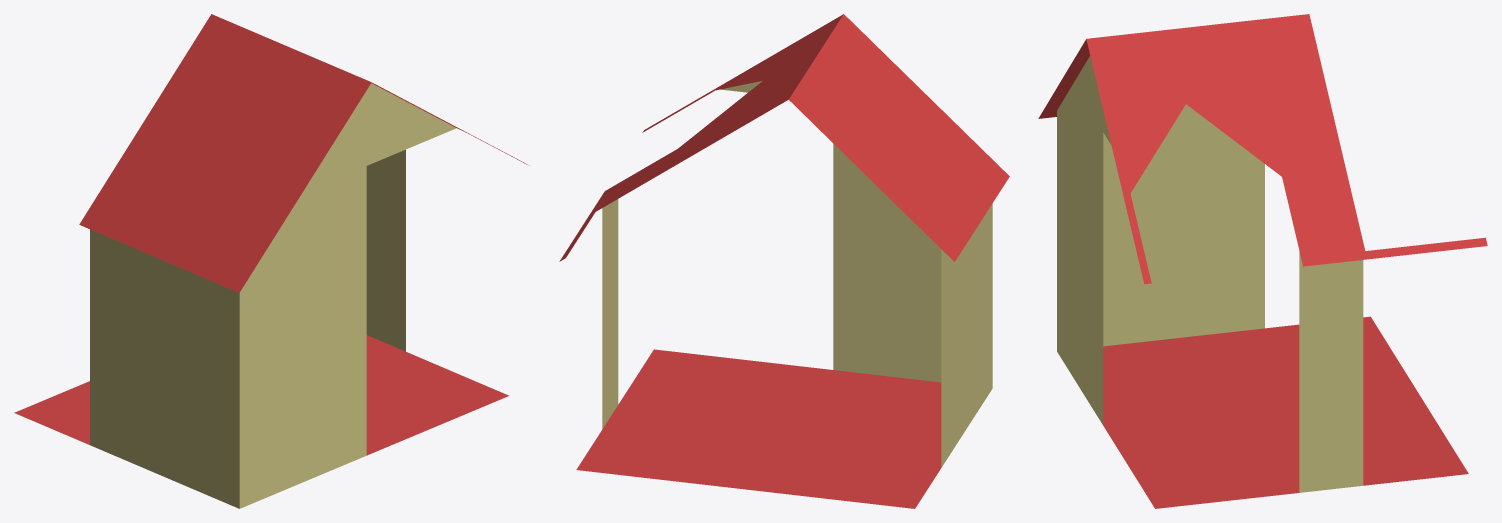
3 views of the same model, side by side, from view 1: azimuth 30°, elevation 25°; view 2: azimuth 150°, elevation 25°; view 3: azimuth 270°, elevation 25° (orthographic). The views are drawn at different scales.
Bounding box in the file's own units: 15.41 × 14.62 × 13.82.
